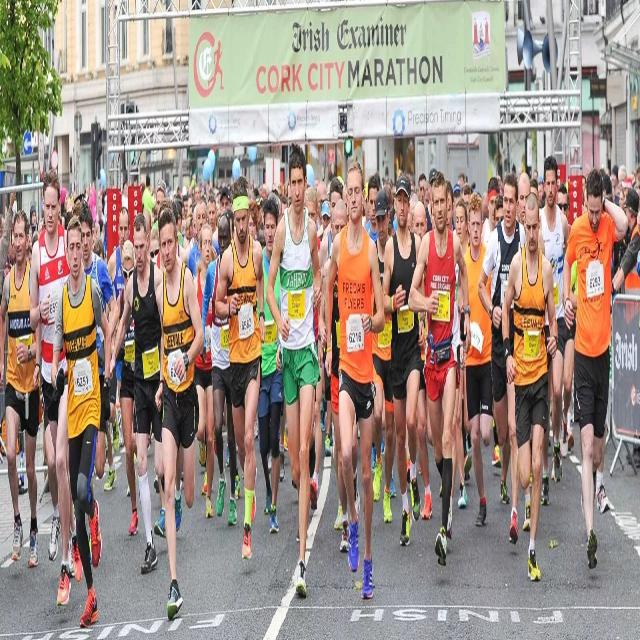Bib: (240, 314, 252, 336), (586, 274, 602, 290), (347, 330, 364, 344), (75, 374, 90, 388)
